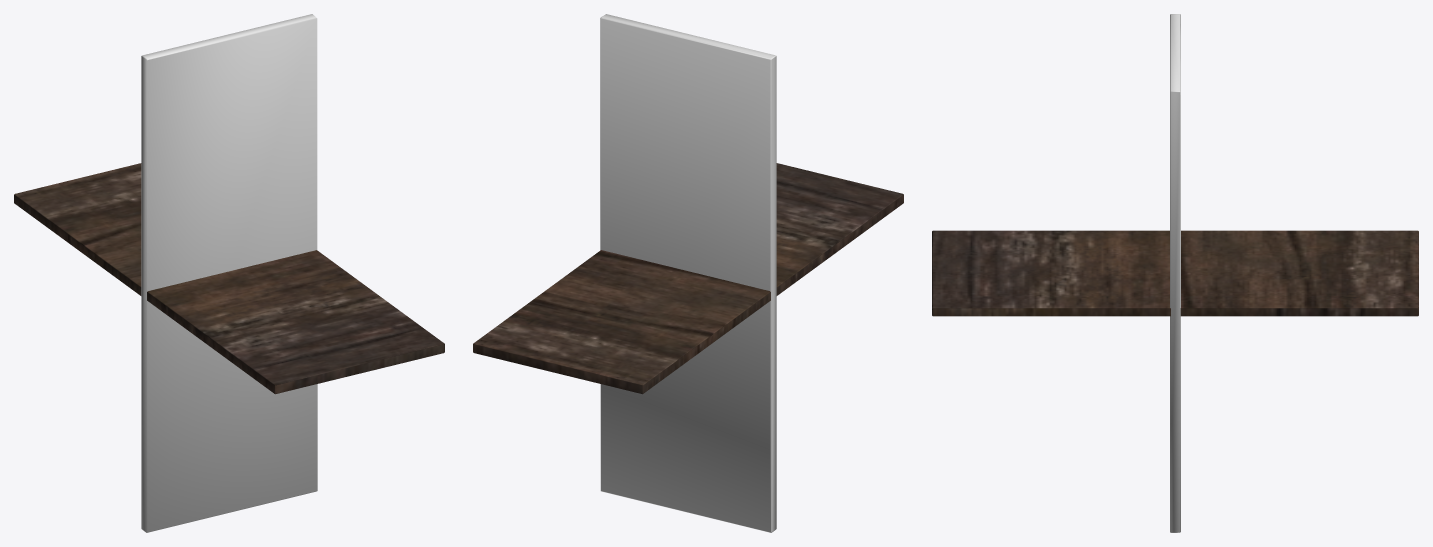
Rendered from SM_WoodenBoard.fbx.
3 views of the same model, side by side, from view 1: azimuth 30°, elevation 25°; view 2: azimuth 150°, elevation 25°; view 3: azimuth 270°, elevation 25° (orthographic). The views are drawn at different scales.
Visible parts, largest first — view 1: SM_WoodenBoard_ConvexHulls, SM_WoodenBoard; view 2: SM_WoodenBoard_ConvexHulls, SM_WoodenBoard; view 3: SM_WoodenBoard, SM_WoodenBoard_ConvexHulls.
Part boxes in pixels (x1,y1,x2,y2): SM_WoodenBoard_ConvexHulls: (141, 14, 317, 532); SM_WoodenBoard: (14, 163, 444, 394); SM_WoodenBoard_ConvexHulls: (600, 14, 776, 532); SM_WoodenBoard: (473, 163, 903, 394); SM_WoodenBoard: (932, 230, 1418, 316); SM_WoodenBoard_ConvexHulls: (1170, 14, 1180, 532).
Size of the model in its own units: 0.7555 by 2 by 2.
